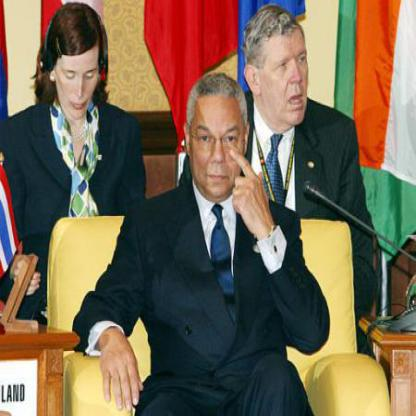face: (190, 79, 248, 200), (259, 15, 312, 131), (57, 19, 100, 123)
